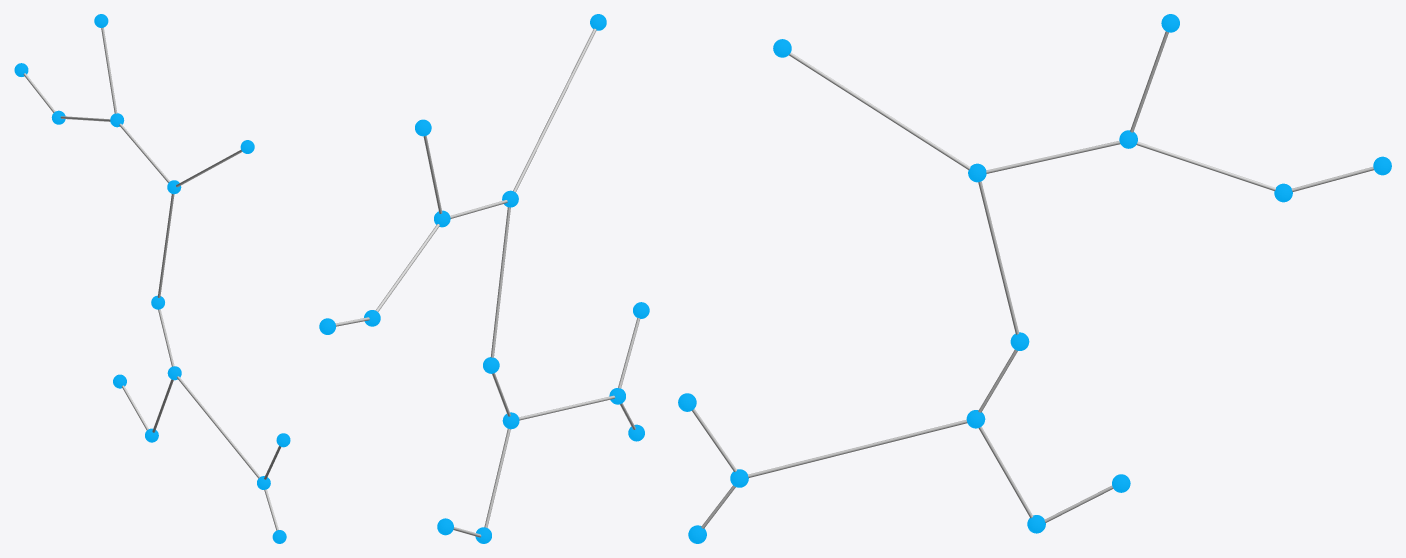
Rendered from Dhanu.glb.
The picture shows the model from 3 angles, left to right: view 1: azimuth 30°, elevation 25°; view 2: azimuth 150°, elevation 25°; view 3: azimuth 270°, elevation 25°; orthographic projection. The views are drawn at different scales.
Parts seen in each view (by area): view 1: Extra.004; view 2: Extra.004; view 3: Extra.004.
Boxes of the visible parts, x1,y1,x2,y2 form: Extra.004: [14, 14, 290, 543]; Extra.004: [319, 14, 649, 543]; Extra.004: [678, 14, 1391, 543].
Bounding box in the file's own units: 0.1011 × 3.16 × 3.87.
